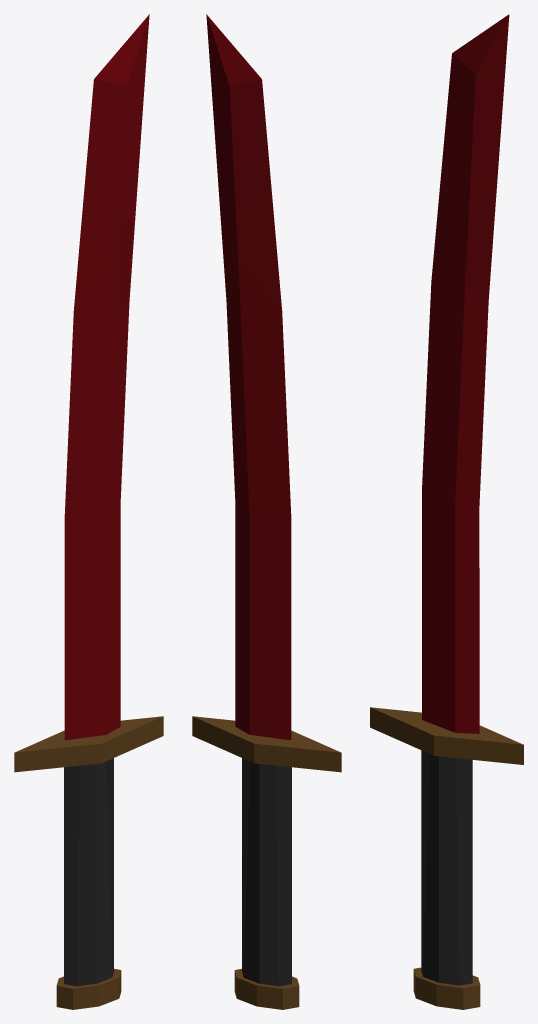
Rendered from murasama.fbx.
3 views of the same model, side by side, from view 1: azimuth 30°, elevation 25°; view 2: azimuth 150°, elevation 25°; view 3: azimuth 330°, elevation 25° (orthographic). The views are drawn at different scales.
Visible parts, largest first — view 1: Knife, rukoyat; view 2: Knife, rukoyat; view 3: Knife, rukoyat.
Part boxes in pixels (x1,y1,x2,y2): Knife: (64, 14, 149, 740); rukoyat: (14, 716, 163, 1009); Knife: (206, 14, 291, 740); rukoyat: (192, 716, 341, 1009); Knife: (422, 14, 509, 733); rukoyat: (370, 707, 523, 1009).
Size of the model in its own units: 395 by 2452 by 116.
